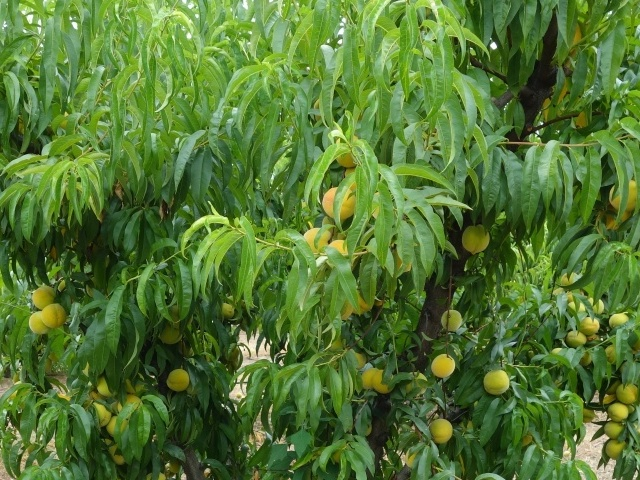peach: (298, 221, 341, 259), (320, 182, 359, 221), (607, 173, 640, 216), (461, 221, 492, 255), (428, 352, 462, 383), (83, 399, 114, 431), (481, 366, 512, 397), (427, 415, 456, 447), (39, 302, 72, 330), (26, 282, 59, 310), (163, 367, 192, 397), (614, 376, 640, 409), (22, 310, 51, 339), (114, 390, 145, 416), (324, 239, 352, 266), (332, 147, 359, 175), (158, 321, 186, 348), (439, 308, 465, 337), (101, 410, 126, 440), (85, 376, 113, 402), (578, 314, 605, 340), (372, 370, 398, 395), (606, 399, 630, 426), (608, 309, 633, 334), (600, 418, 625, 443), (604, 435, 627, 462), (564, 326, 587, 352), (357, 365, 381, 387), (584, 294, 606, 317)
